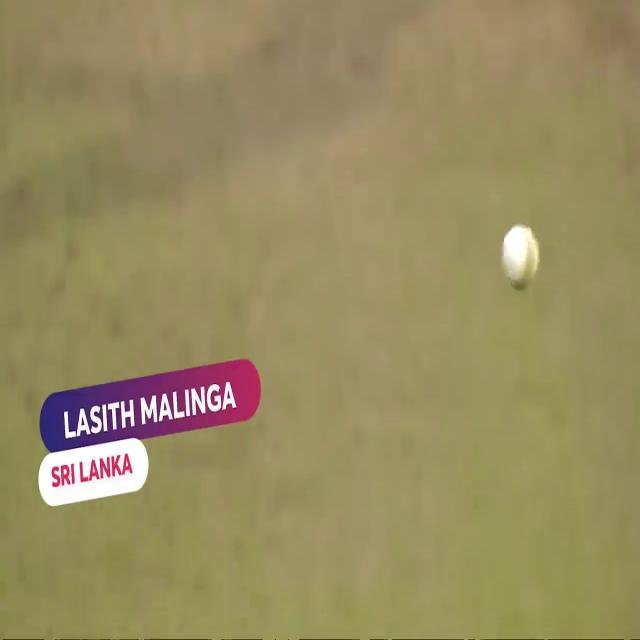ball: (502, 222, 542, 294)
